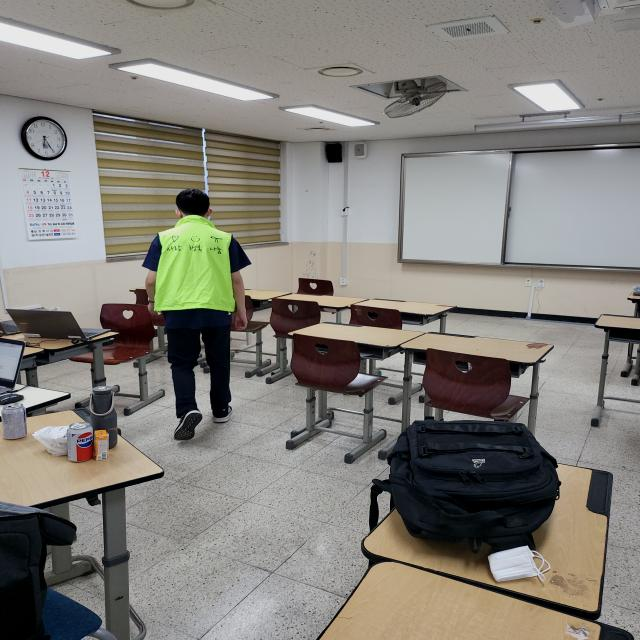weston_spy: (151, 212, 247, 318)
